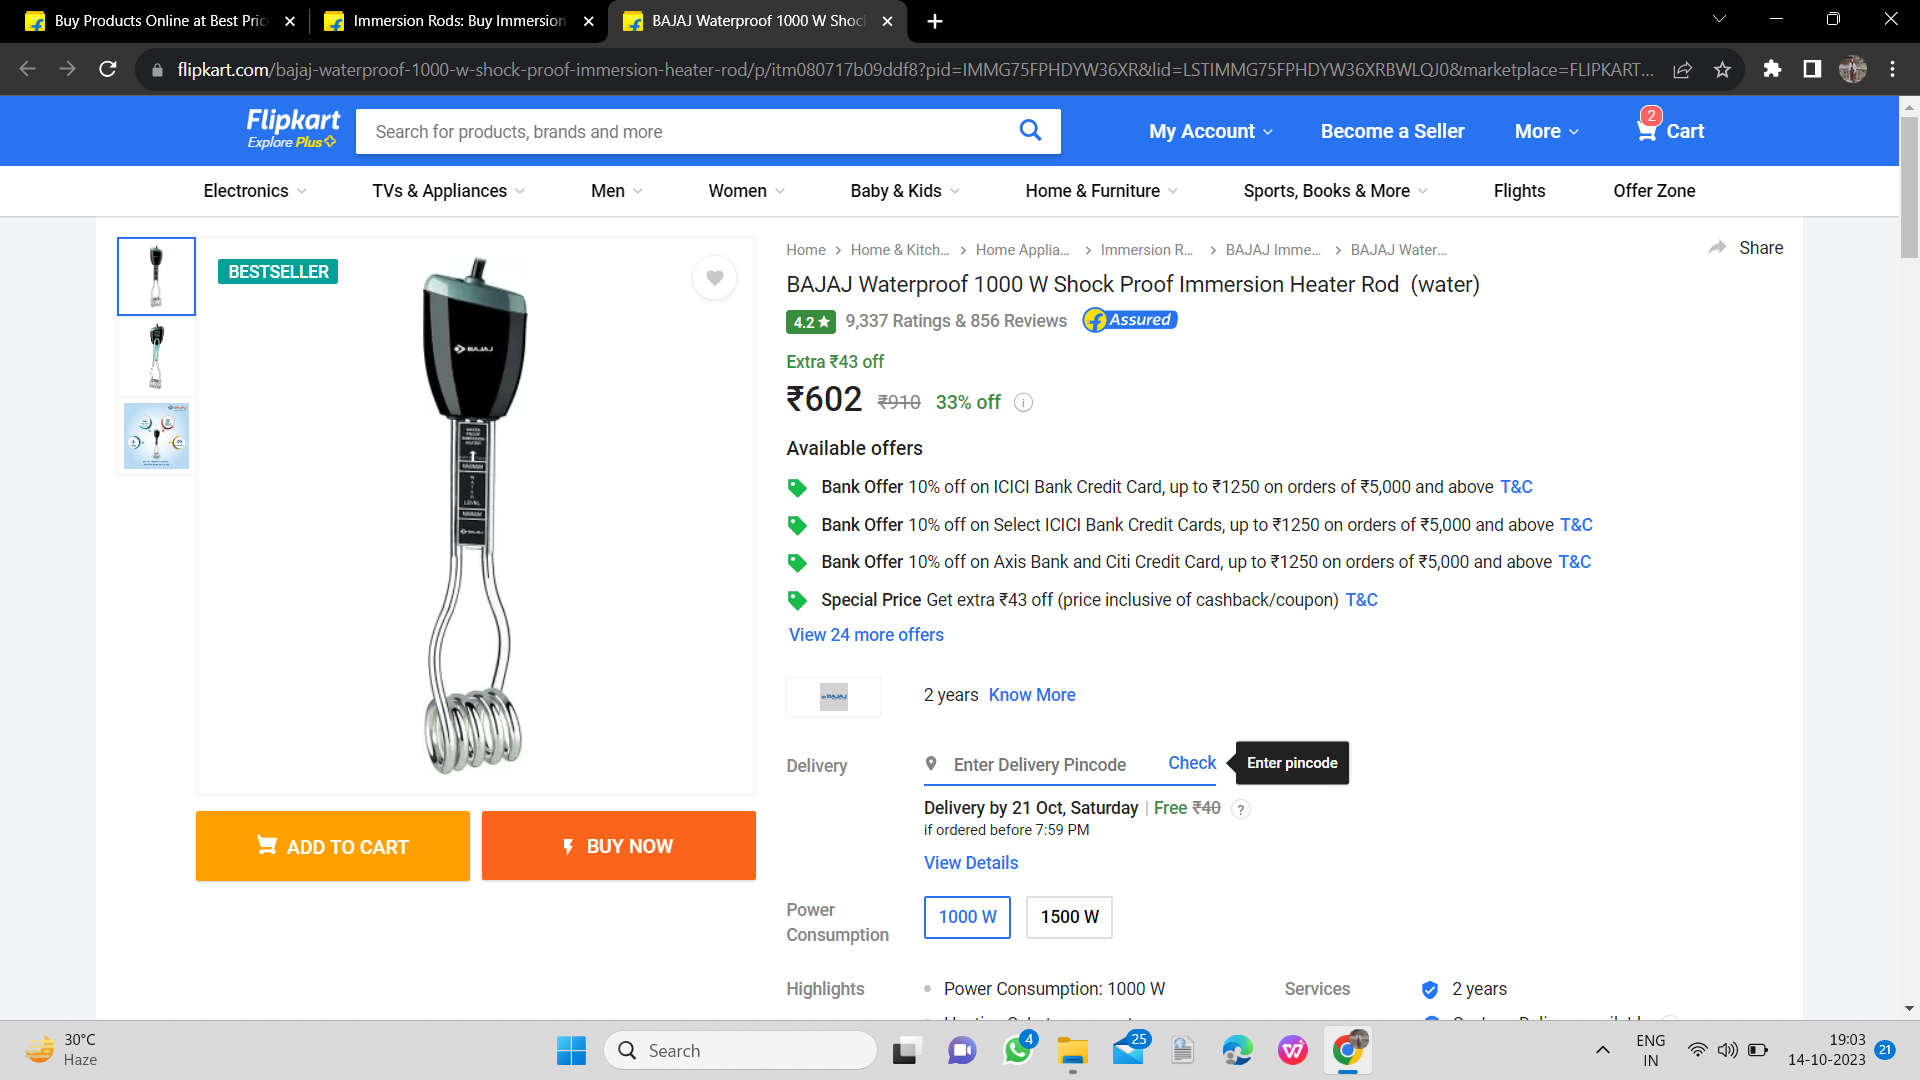Image: (210, 241, 749, 781)
Paragraph: (777, 468, 1601, 654), (764, 740, 1404, 878), (187, 803, 766, 889), (1109, 95, 1724, 149), (767, 264, 1485, 306), (774, 895, 1137, 951), (767, 345, 1040, 418), (770, 967, 1180, 1007), (766, 305, 1193, 339), (796, 678, 1088, 712), (1275, 973, 1513, 1007), (777, 431, 932, 455)
